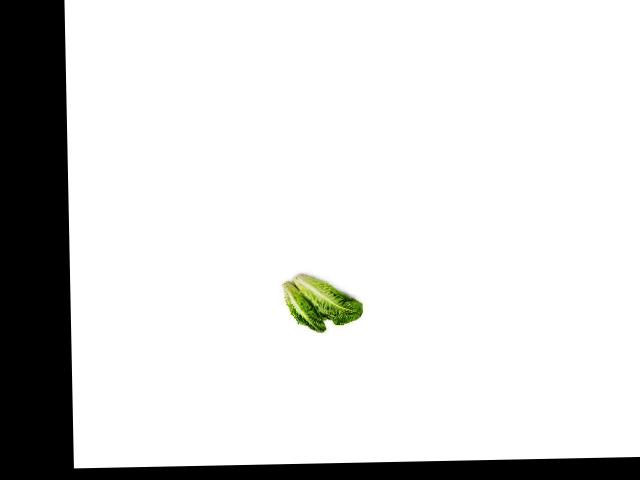lettuce: (298, 269, 363, 328)
